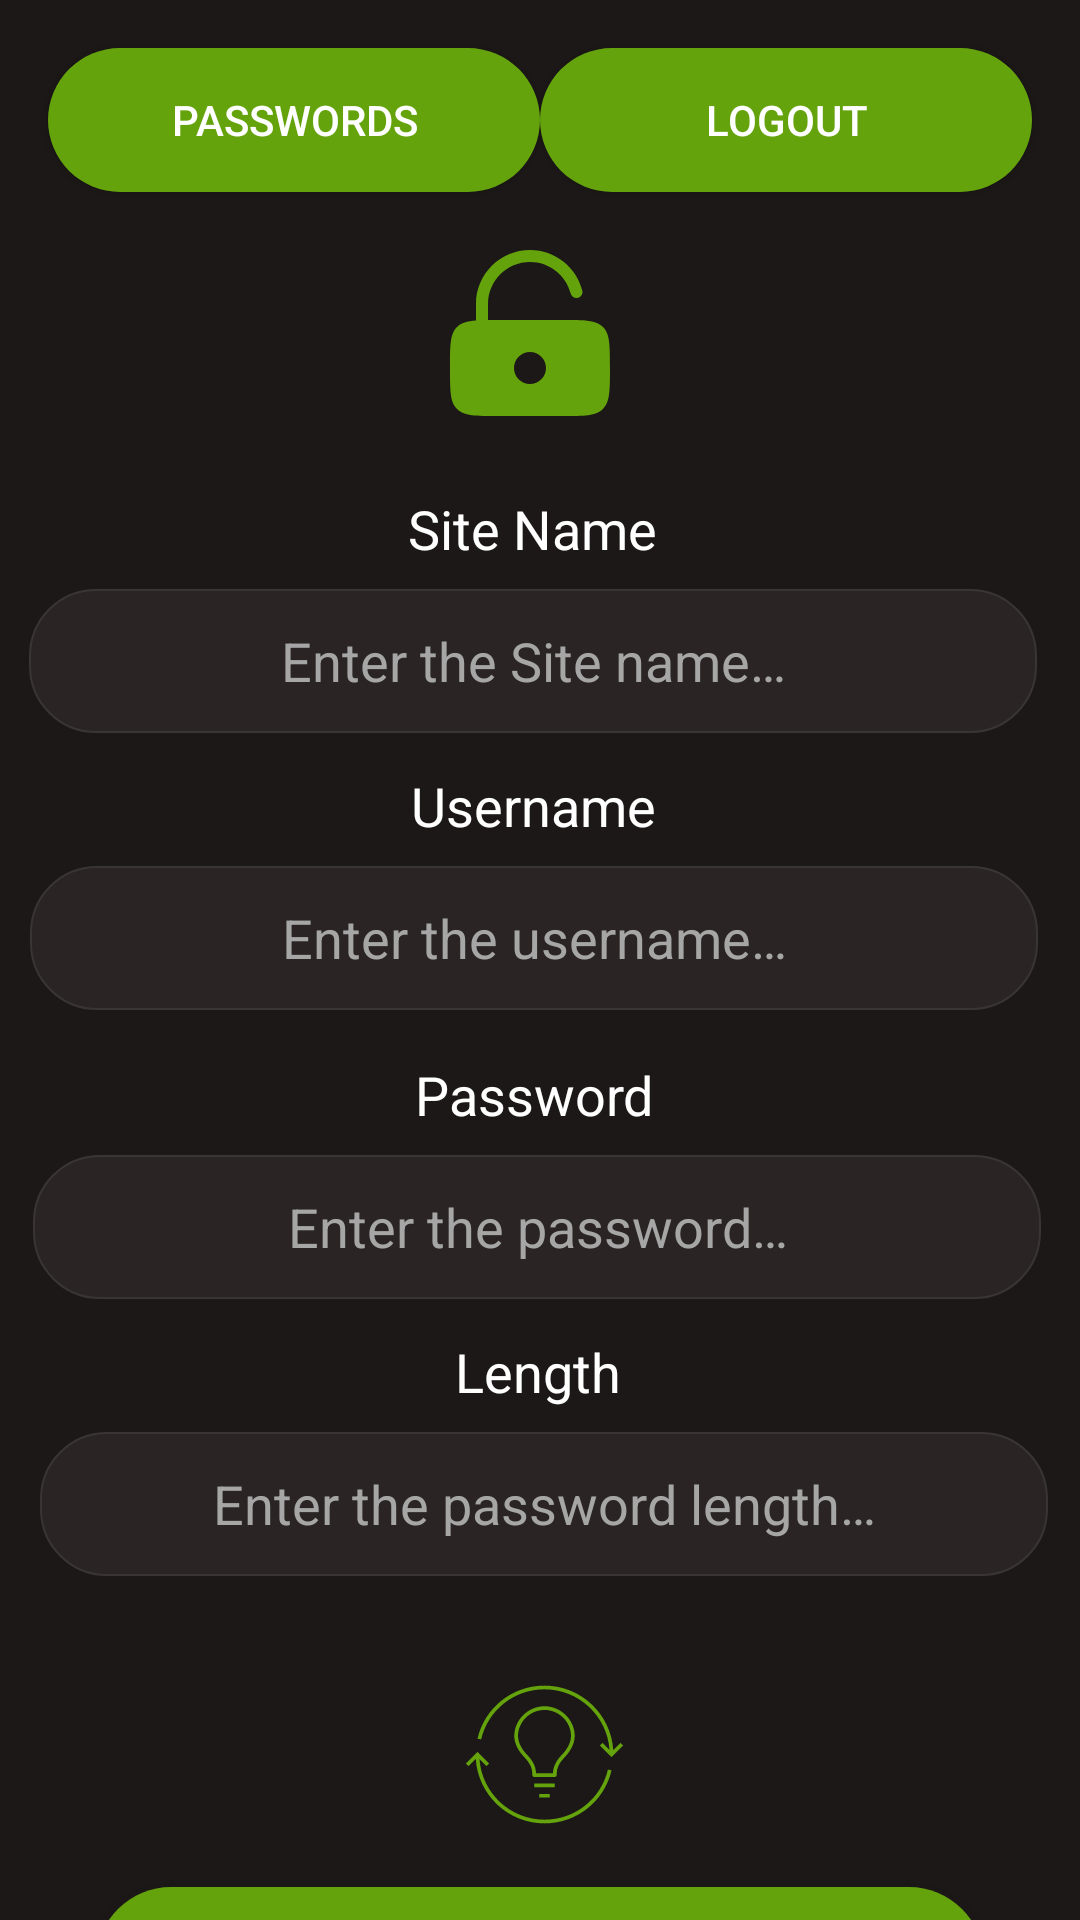

Icons on this 1080x1920 Android screen, each with the point to tap as point (x, y):
generate: point (544, 1754)
lock: point (530, 333)
